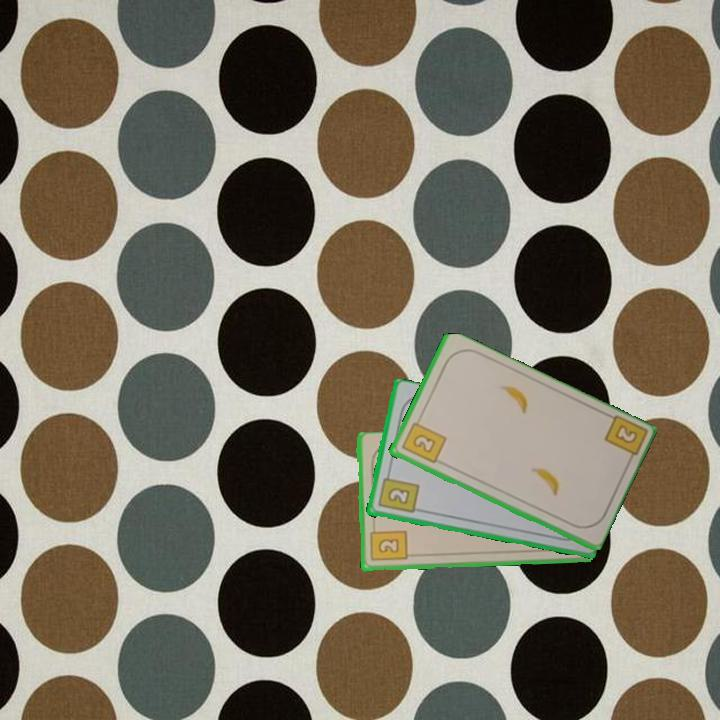2b: (600, 412, 648, 468), (398, 415, 448, 467), (374, 469, 421, 516), (366, 522, 409, 564)
